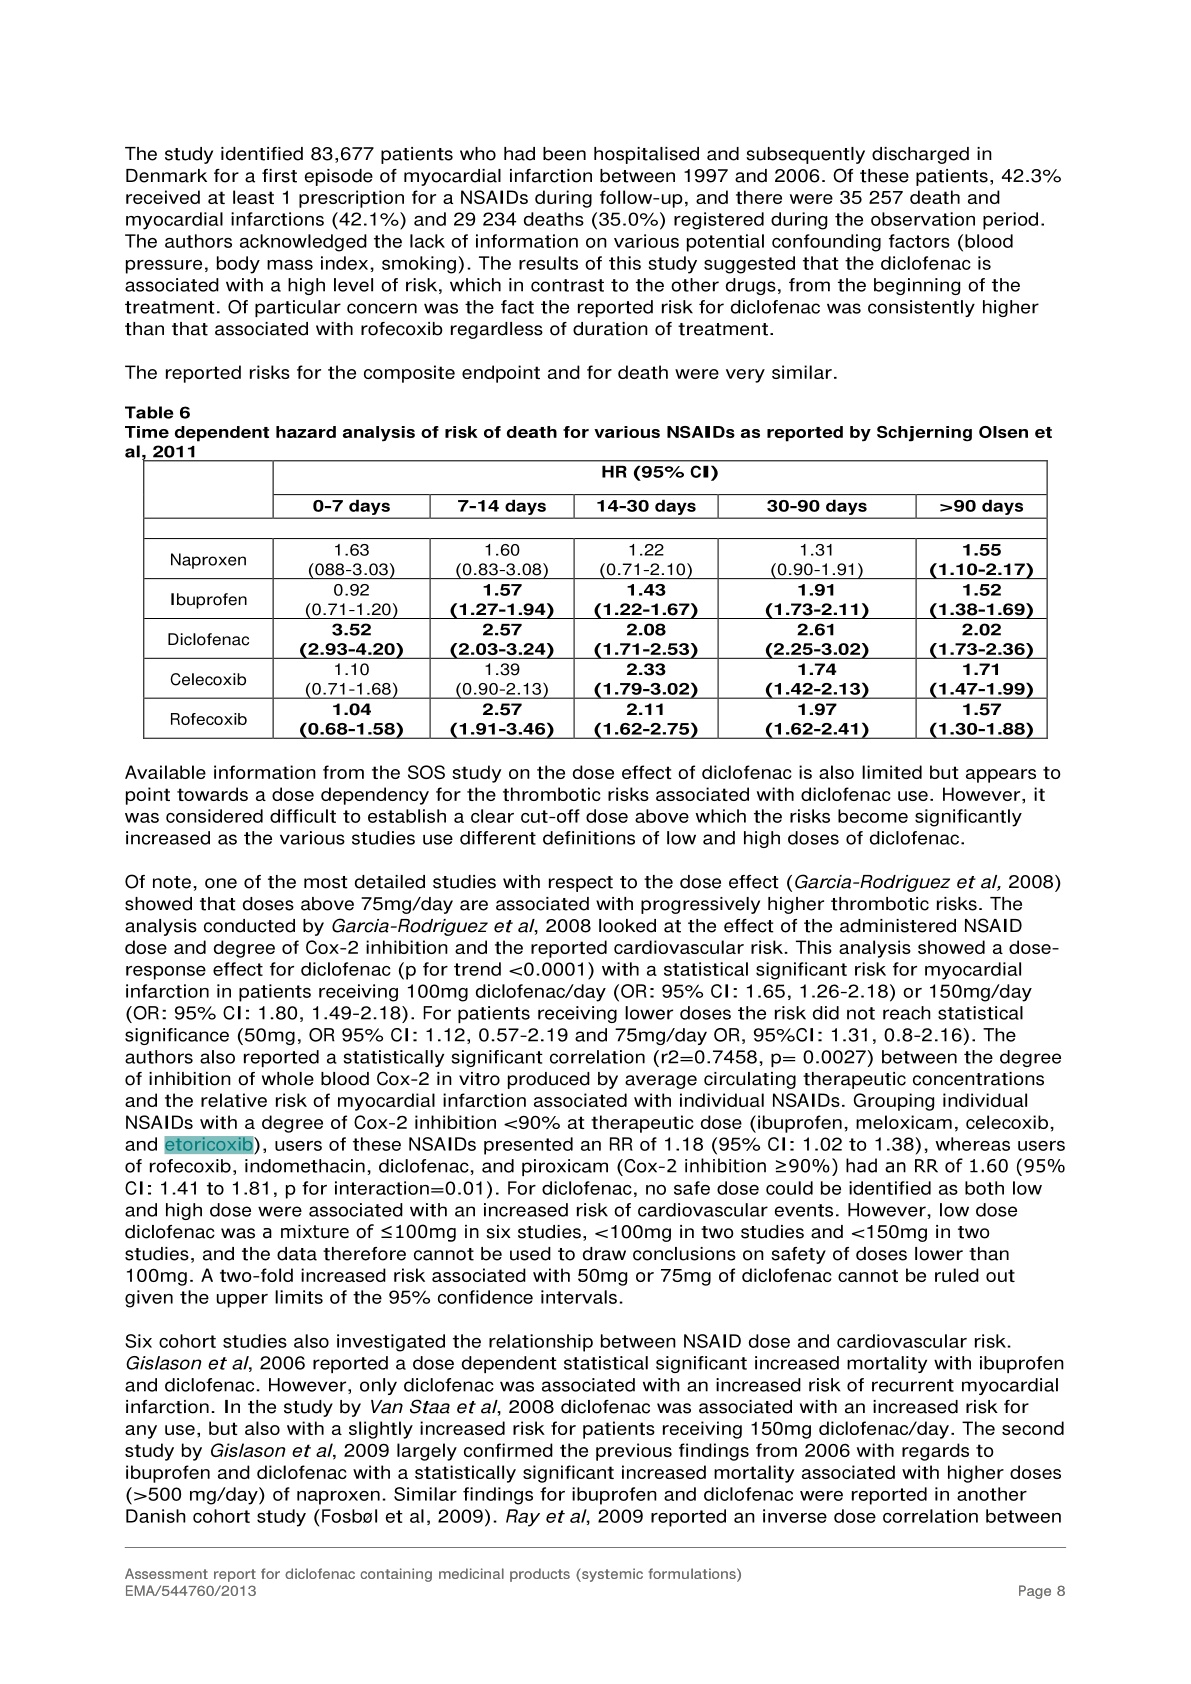merged_cells: (142, 459, 1049, 740)
